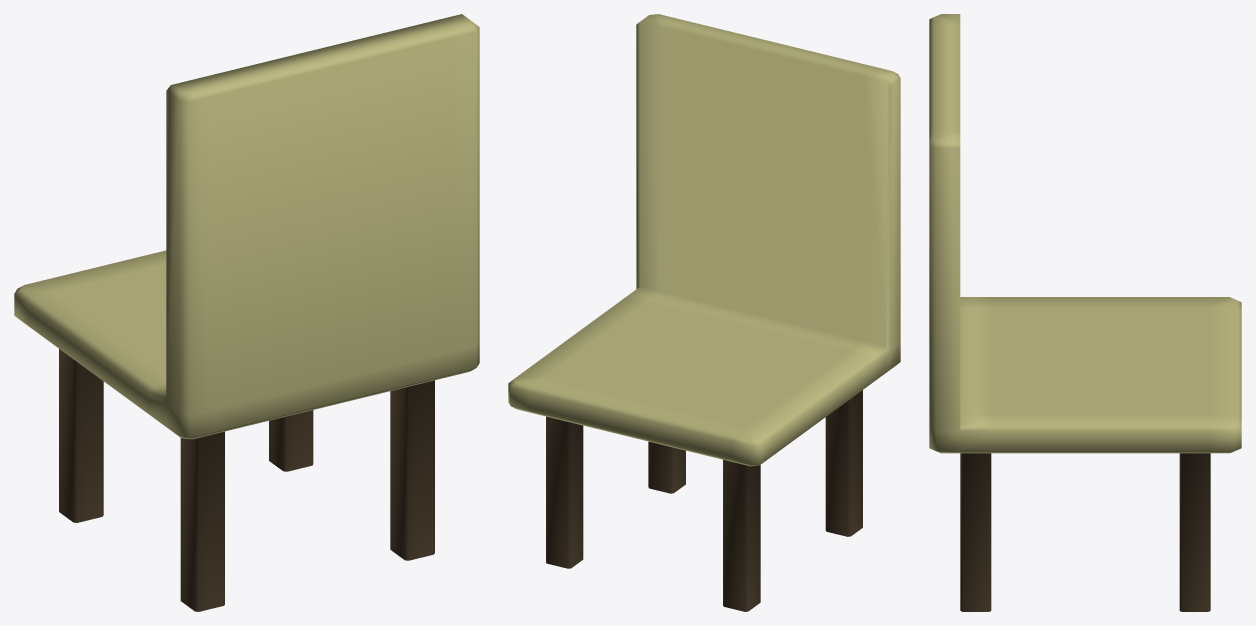
Rendered from chair.glb.
The picture shows the model from 3 angles, left to right: view 1: azimuth 30°, elevation 25°; view 2: azimuth 150°, elevation 25°; view 3: azimuth 270°, elevation 25°; orthographic projection. The views are drawn at different scales.
Visible parts, largest first — view 1: Chair; view 2: Chair; view 3: Chair.
Part boxes in pixels (x1,y1,x2,y2): Chair: (14, 14, 479, 611); Chair: (508, 14, 900, 611); Chair: (929, 14, 1241, 611).
Size of the model in its own units: 1 by 1.7 by 1.
